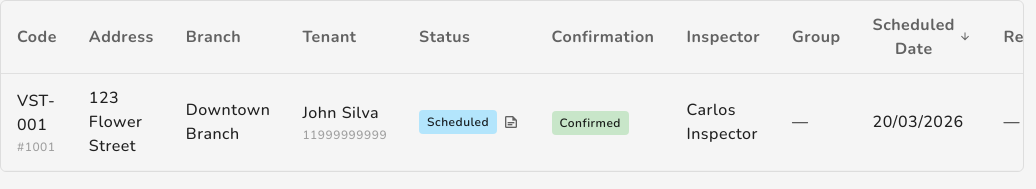
AppointmentTable › shows the tenant note text on hover instead of a generic notice
Step 1. Hover over the icon named "Note: I work night shifts, please come after 2pm" → [511, 122], box top-left (503, 110), bottom-right (520, 134)
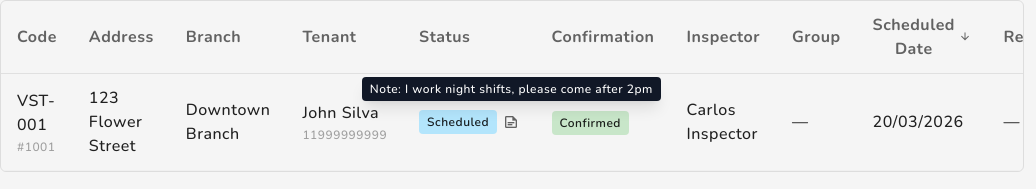
Check: the tooltip reads "Note: I work night shifts, please come after 2pm", box top-left (370, 80), bottom-right (653, 96)
